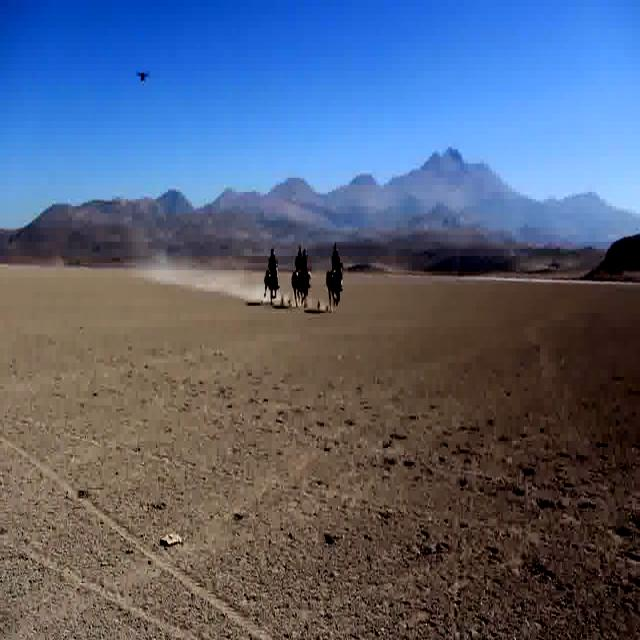drone: (131, 62, 152, 91)
